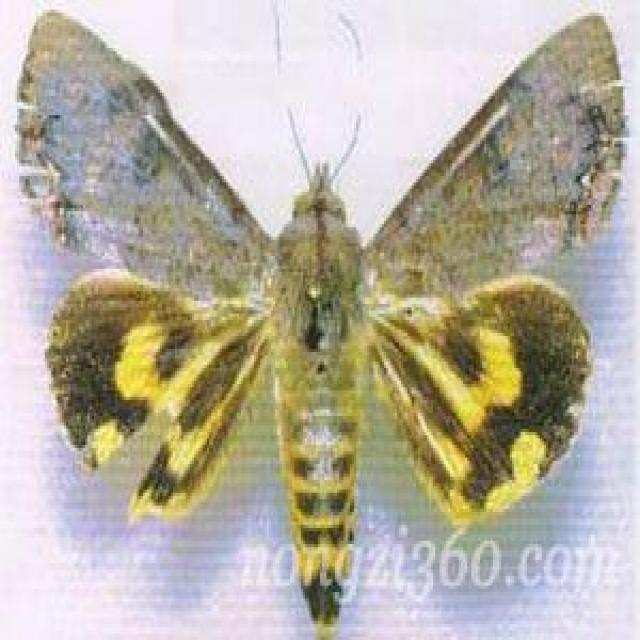BeetArmyWorm-Adult-: (7, 4, 629, 632)
